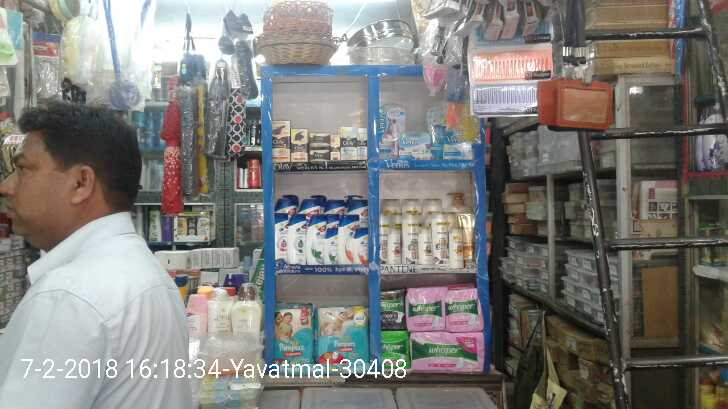venus: (377, 102, 401, 157), (402, 131, 432, 156), (444, 132, 470, 159), (431, 111, 446, 127)
